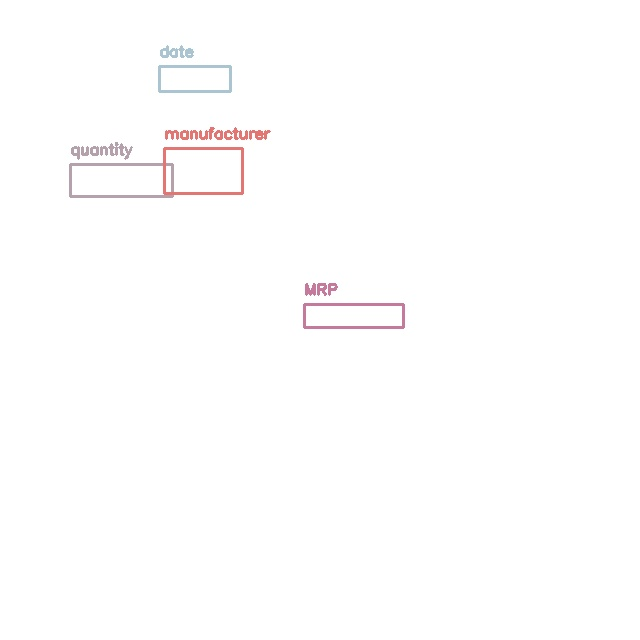MRP: (304, 304, 403, 327)
date: (159, 66, 230, 91)
manufacturer: (164, 148, 242, 193)
quantity: (70, 164, 172, 196)
